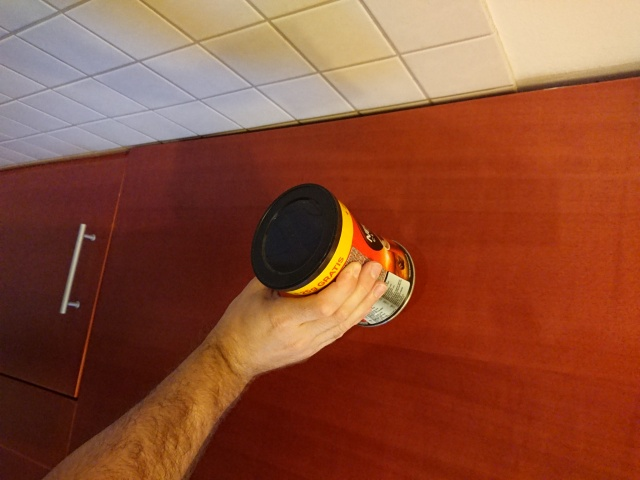Nescafe Classic 225g: (246, 179, 419, 330)
